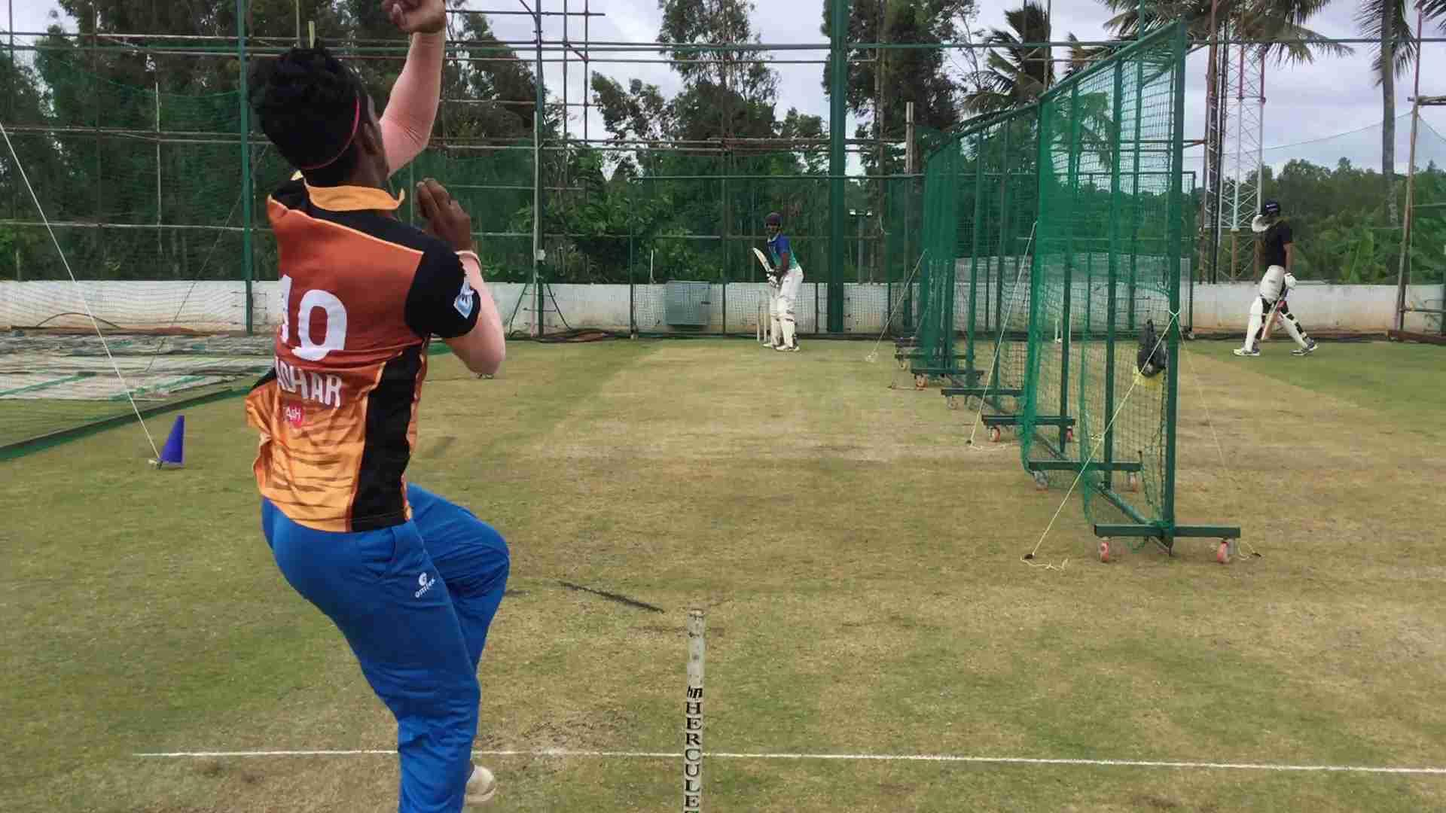batsman: (755, 204, 808, 359)
